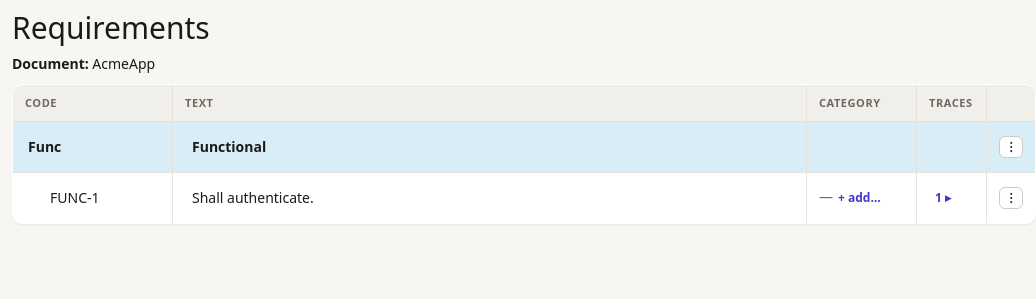
SRSTable show-tests + info › expands the verifying tests inline for a requirement
Click the button named "Show trace for r_001": (943, 198) [929, 187, 957, 209]
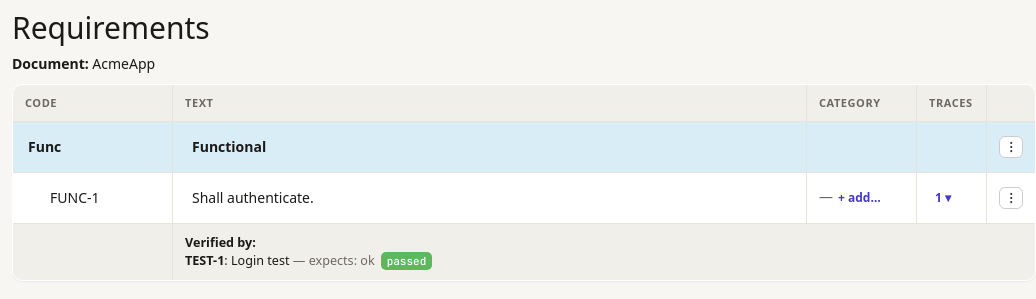
Expected: the text "Login test" is shown, [231, 252, 290, 269]
Expected: the text "TEST-1" is shown, [185, 252, 224, 269]
